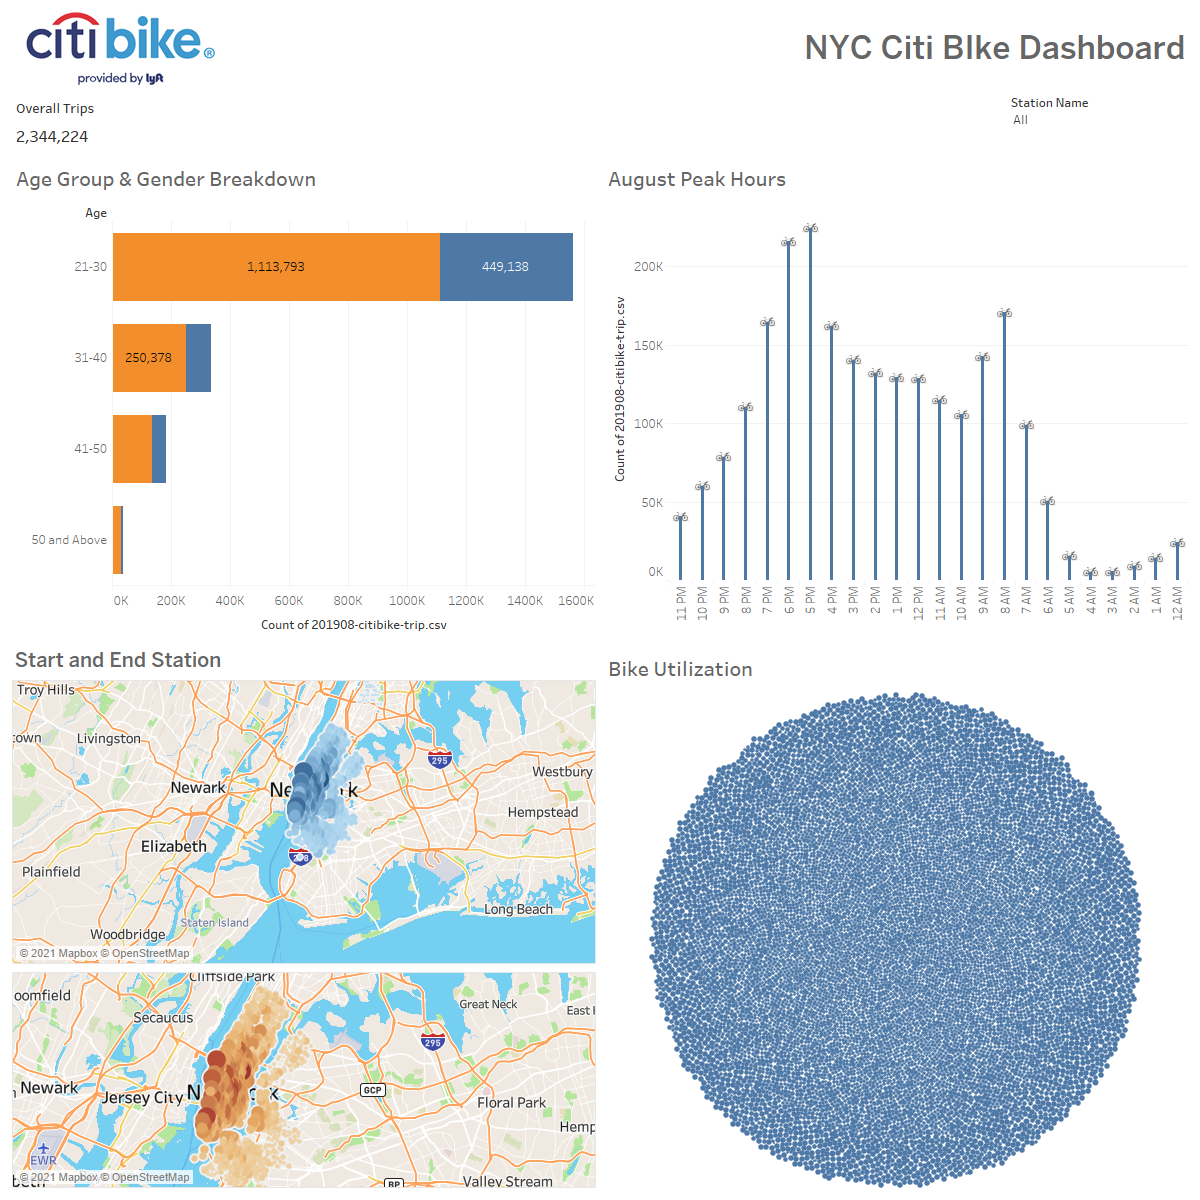

The page's visual inventory and layout, read from the dashboard file:
{"tool":"tableau","page":{"name":"Analysis","canvas":[1200,1200],"ordinal":0},"visuals":[{"type":"worksheet","box":[0,0,1200,1200]},{"type":"worksheet","param":"horz","box":[8,8,1184,1184]},{"type":"worksheet","param":"horz","box":[8,8,1184,1184]},{"type":"worksheet","param":"horz","box":[8,8,1184,1184]},{"type":"worksheet","param":"horz","box":[8,8,1184,1184]},{"type":"worksheet","param":"horz","box":[8,8,1184,1184]},{"type":"worksheet","box":[8,8,1184,1184]},{"type":"worksheet","param":"C:/Users/Shivam Mittal/Desktop/Class Folder/bikesharing/Trip Analysis.twb Files/","box":[8,8,592,81]},{"type":"worksheet","box":[600,8,592,81]},{"type":"worksheet","title":"Number of Trips","mark":"Automatic","box":[8,89,999,65]},{"type":"worksheet","title":"Number of Trips","mark":"Automatic","param":"[federated.05dythu0qz0vqh14rk68n1n054bj].[none:Calculation_934215465964158978:nk","box":[1007,89,185,65]},{"type":"worksheet","param":"vert","box":[8,154,592,490]},{"type":"worksheet","title":"Gender Breakdown","mark":"Automatic","cols":["201908-citibike-trip.csv_4A351B4793BD4F44A9D108A84D7D7770"],"box":[8,154,592,490]},{"type":"worksheet","box":[600,154,592,1038]},{"type":"worksheet","param":"vert","box":[600,154,592,1038]},{"type":"worksheet","box":[600,154,592,1038]},{"type":"worksheet","box":[600,154,592,1038]},{"type":"worksheet","param":"vert","box":[600,154,592,490]},{"type":"worksheet","title":"August Peak Hours","mark":"Shape","rows":["201908-citibike-trip.csv_4A351B4793BD4F44A9D108A84D7D7770","201908-citibike-trip.csv_4A351B4793BD4F44A9D108A84D7D7770"],"cols":["starttime"],"box":[600,154,592,490]},{"type":"worksheet","param":"vert","box":[8,644,592,548]},{"type":"worksheet","box":[8,644,592,32]},{"type":"worksheet","param":"vert","box":[600,644,592,548]},{"type":"worksheet","title":"Bike Utilization","mark":"Circle","box":[600,644,592,548]},{"type":"worksheet","title":"Top Starting Location","mark":"Circle","rows":["start station latitude"],"cols":["start station longitude"],"box":[8,676,592,292]},{"type":"worksheet","title":"Top Ending Location ","mark":"Automatic","rows":["end station latitude"],"cols":["end station longitude"],"box":[8,968,592,224]}]}

Visuals, with their boxes in screenshot pixels (x1, y1, x2, y2), scaled from the page's 1200x1200 canvas onto the 1200x1200 screenshot:
worksheet: region(0, 0, 1199, 1199)
worksheet: region(8, 8, 1192, 1192)
worksheet: region(8, 8, 1192, 1192)
worksheet: region(8, 8, 1192, 1192)
worksheet: region(8, 8, 1192, 1192)
worksheet: region(8, 8, 1192, 1192)
worksheet: region(8, 8, 1192, 1192)
worksheet: region(8, 8, 600, 89)
worksheet: region(600, 8, 1192, 89)
"Number of Trips" worksheet: region(8, 89, 1007, 154)
"Number of Trips" worksheet: region(1007, 89, 1192, 154)
worksheet: region(8, 154, 600, 644)
"Gender Breakdown" worksheet: region(8, 154, 600, 644)
worksheet: region(600, 154, 1192, 1192)
worksheet: region(600, 154, 1192, 1192)
worksheet: region(600, 154, 1192, 1192)
worksheet: region(600, 154, 1192, 1192)
worksheet: region(600, 154, 1192, 644)
"August Peak Hours" worksheet (Shape marks): region(600, 154, 1192, 644)
worksheet: region(8, 644, 600, 1192)
worksheet: region(8, 644, 600, 676)
worksheet: region(600, 644, 1192, 1192)
"Bike Utilization" worksheet (Circle marks): region(600, 644, 1192, 1192)
"Top Starting Location" worksheet (Circle marks): region(8, 676, 600, 968)
"Top Ending Location " worksheet: region(8, 968, 600, 1192)
